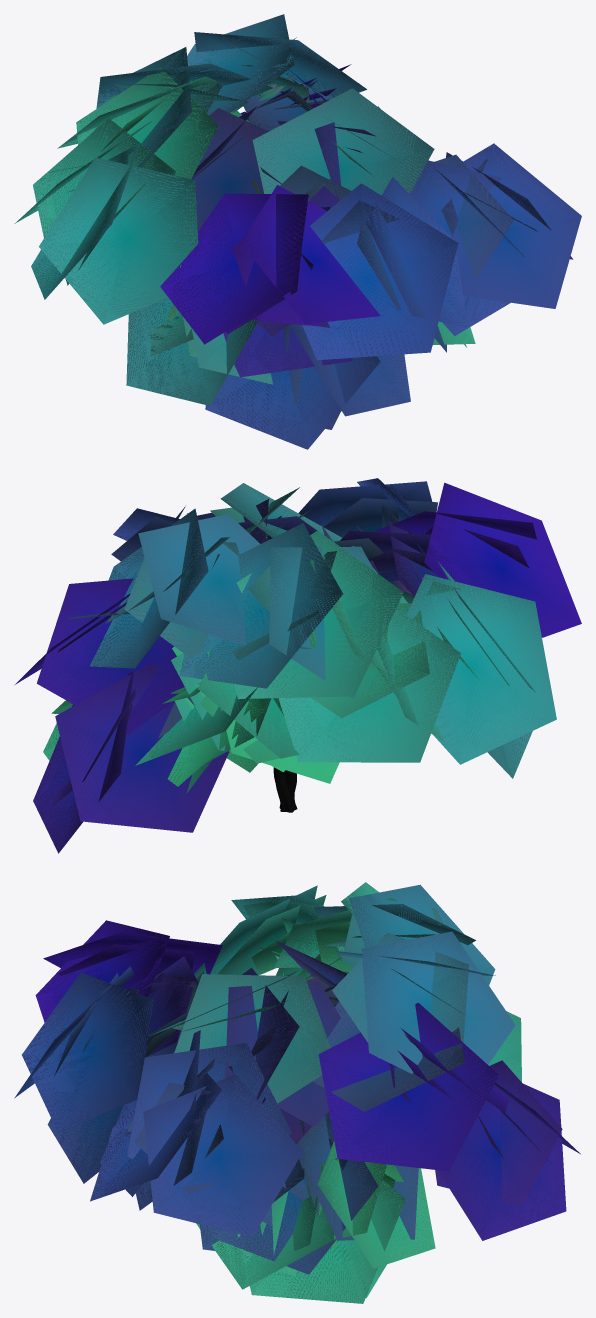
File: arbusto.fbx
The picture shows the model from 3 angles, top to bottom: view 1: azimuth 30°, elevation 25°; view 2: azimuth 150°, elevation 25°; view 3: azimuth 270°, elevation 25°; orthographic projection. The views are drawn at different scales.
Parts seen in each view (by area): view 1: Tree_2; view 2: Tree_2, Tree_0; view 3: Tree_2.
Boxes of the visible parts, x1,y1,x2,y2 form: Tree_2: [14, 14, 581, 449]; Tree_2: [15, 478, 581, 853]; Tree_0: [273, 767, 297, 812]; Tree_2: [14, 882, 580, 1303].
Size of the model in its own units: 255 by 159 by 266.
